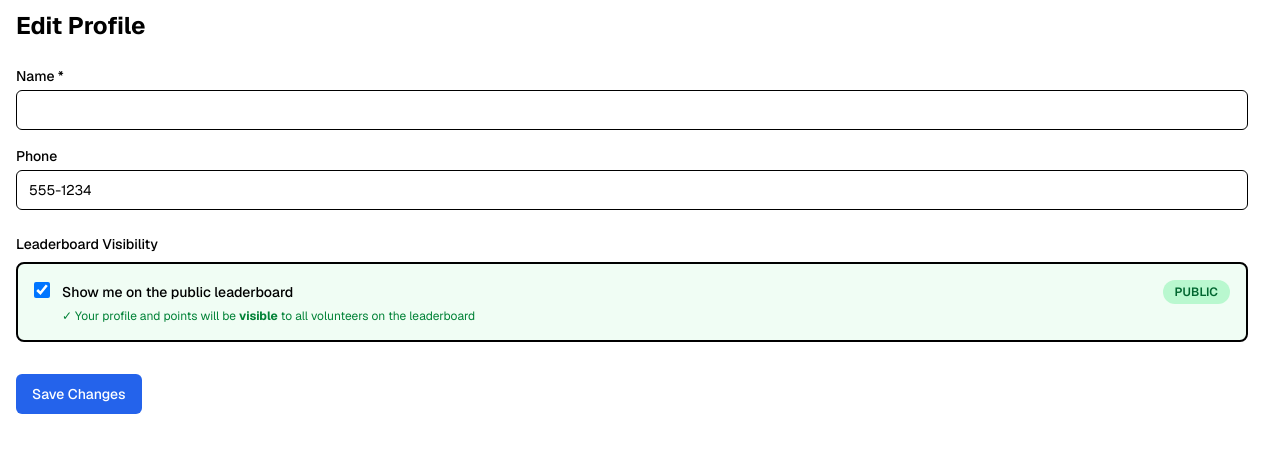
ProfileEditForm › Form Interactions › should clear field error when user starts typing
Note: Submit to trigger validation error
Click the button "Save Changes" at (79, 394), box [16,374,142,414]
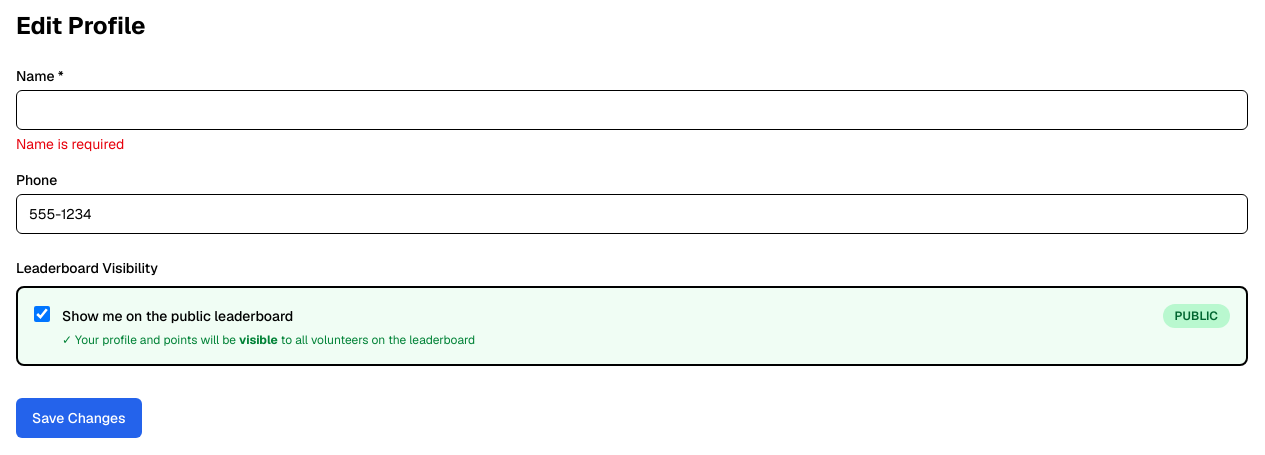
Now the text "Name is required" is shown, box [16,135,124,153]
Note: Type in the field
Type "John" into the field labelled "Name *" at (632, 110), box [16,90,1248,130]
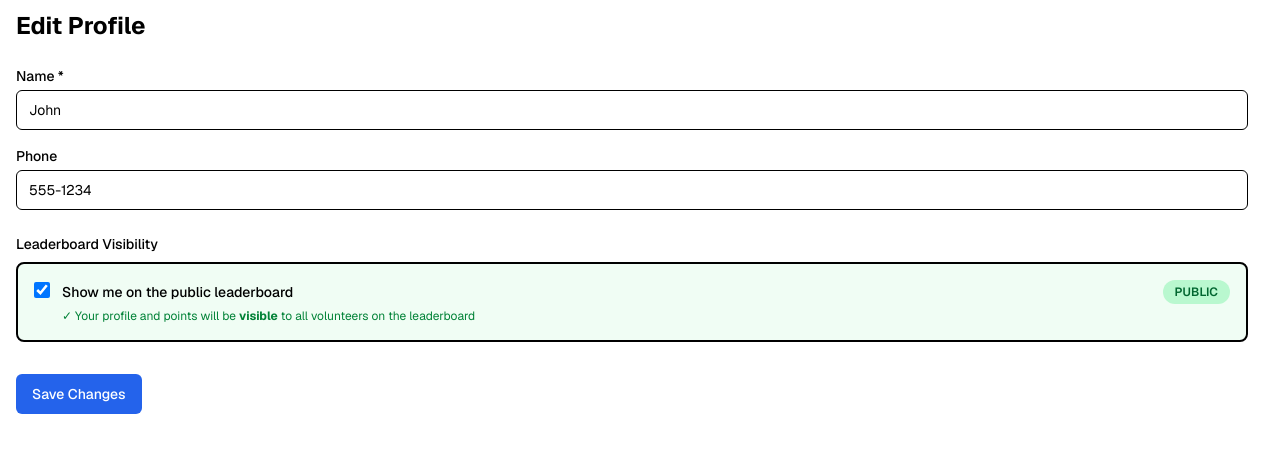
Now the text "Name is required" is gone
